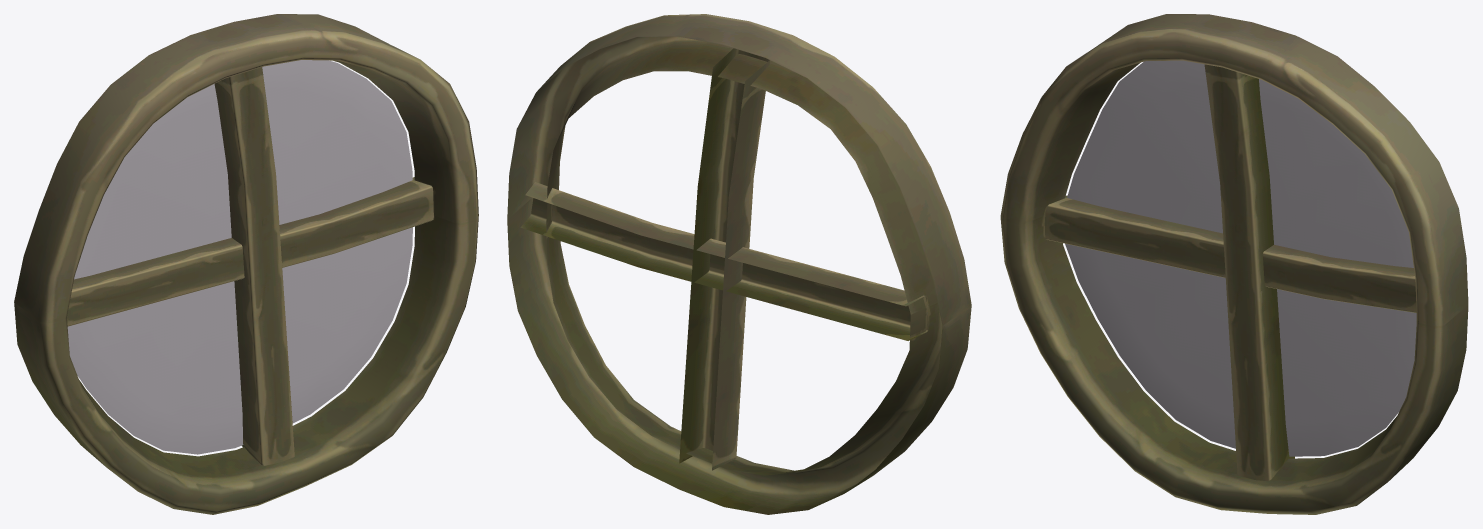
The model's file is SM_Window_03.gltf.
The picture shows the model from 3 angles, left to right: view 1: azimuth 30°, elevation 25°; view 2: azimuth 150°, elevation 25°; view 3: azimuth 330°, elevation 25°; orthographic projection.
Visible parts, largest first — view 1: SM_Window_03; view 2: SM_Window_03; view 3: SM_Window_03.
Boxes of the visible parts, bbox=[...] form: SM_Window_03: bbox=[14, 14, 478, 514]; SM_Window_03: bbox=[507, 14, 971, 514]; SM_Window_03: bbox=[1000, 14, 1468, 514].
Bounding box in the file's own units: 1.04 × 1.05 × 0.1399.
Materials: 2 (2 with a texture image).
